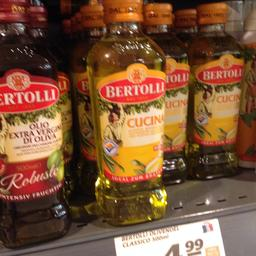oil: (85, 0, 168, 225), (0, 0, 71, 248), (186, 2, 244, 176)
